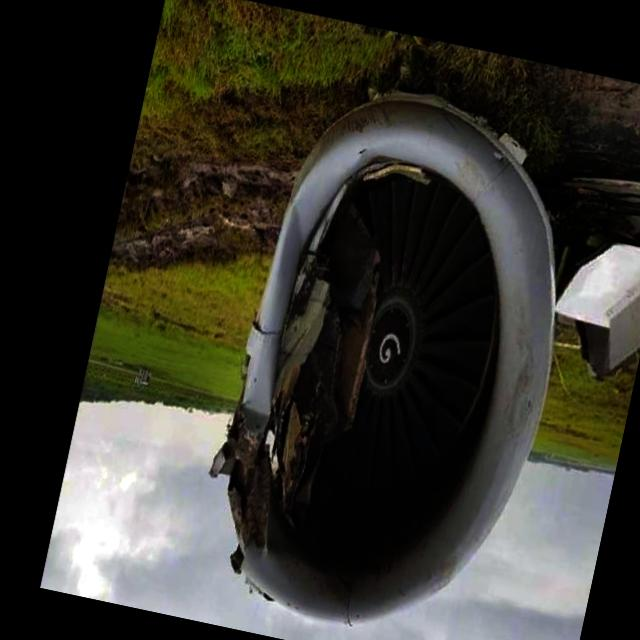dent: (252, 179, 326, 326), (235, 380, 278, 430)
